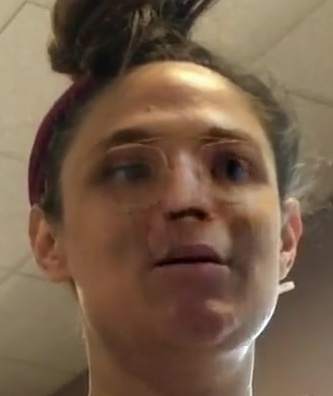n_f: (156, 144, 217, 225)
